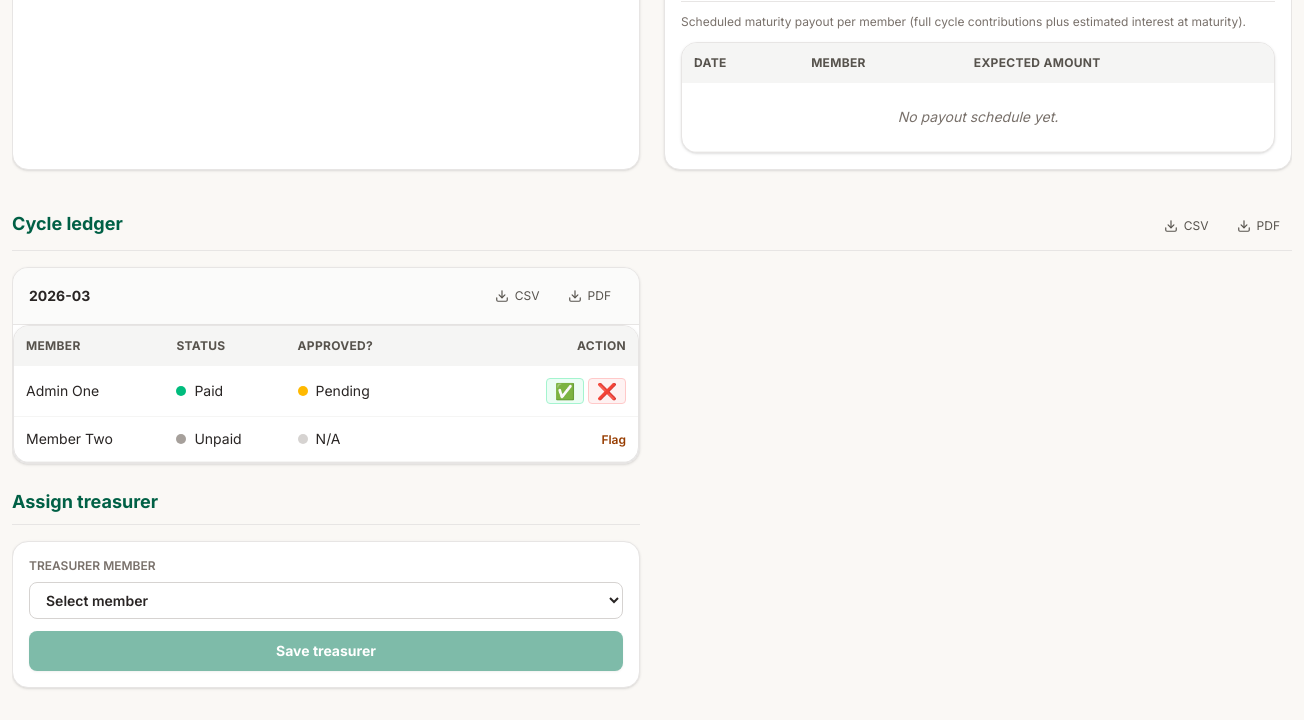
Payments › shows and saves treasurer assignment for manager roles
(page scrolled)
Expected: the heading "Assign treasurer" is shown, 12,488 -> 640,525
Step 1. Select "Member Two (Member)" in the dropdown labelled "Treasurer member" → (326, 600), box 29,582 -> 623,619
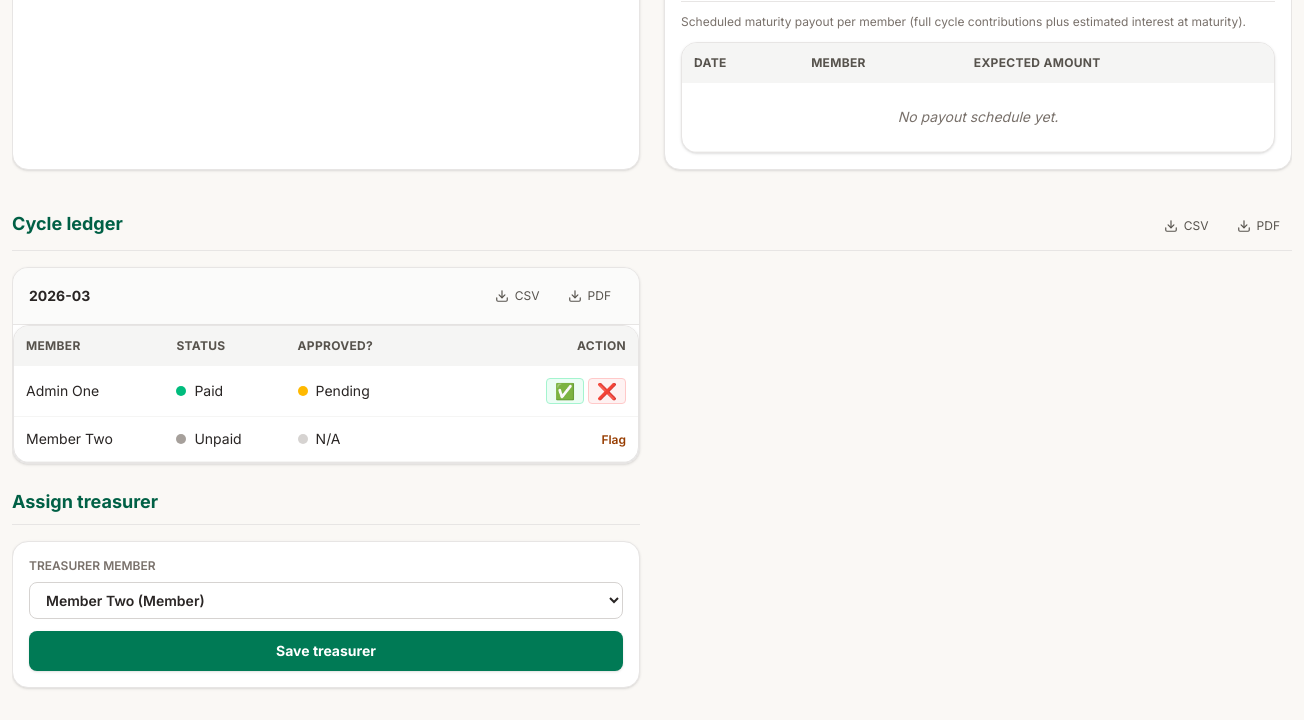
Step 2. Click the button "Save treasurer" → (326, 651), box 29,631 -> 623,671
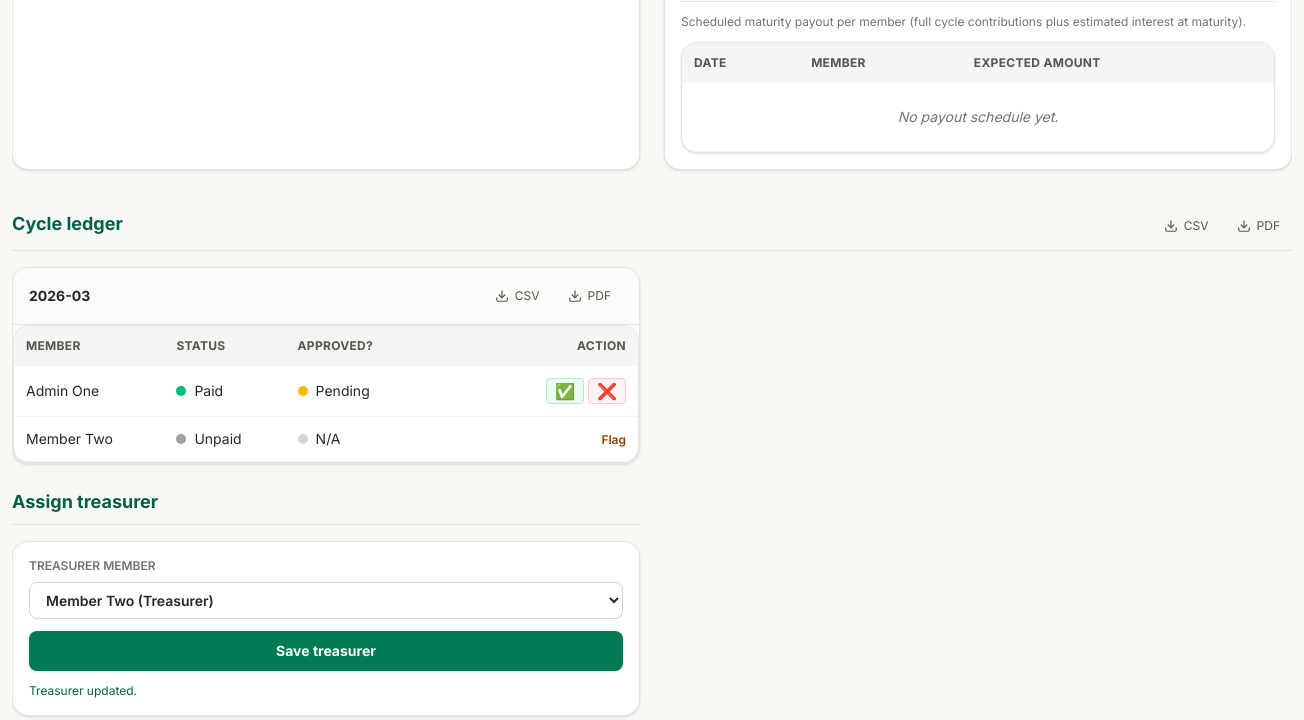
Expected: the text "Treasurer updated." is shown, 29,683 -> 137,698
